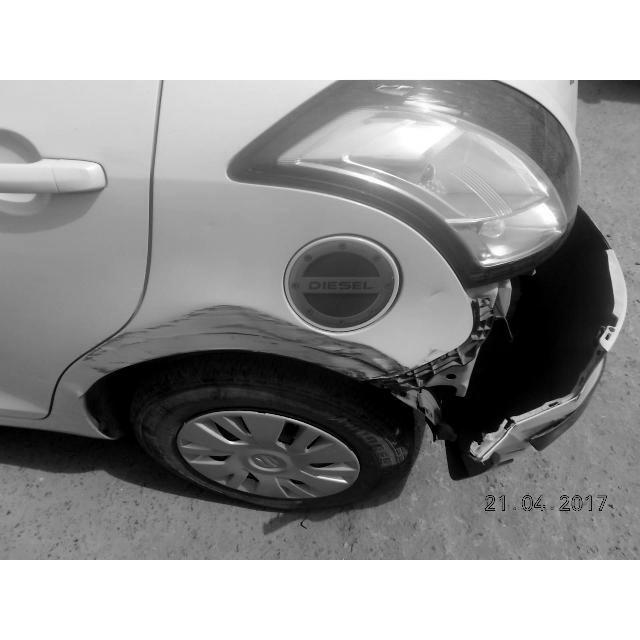quaterpanel-dent: (148, 179, 391, 446)
rear-bumper-dent: (389, 216, 631, 488)
